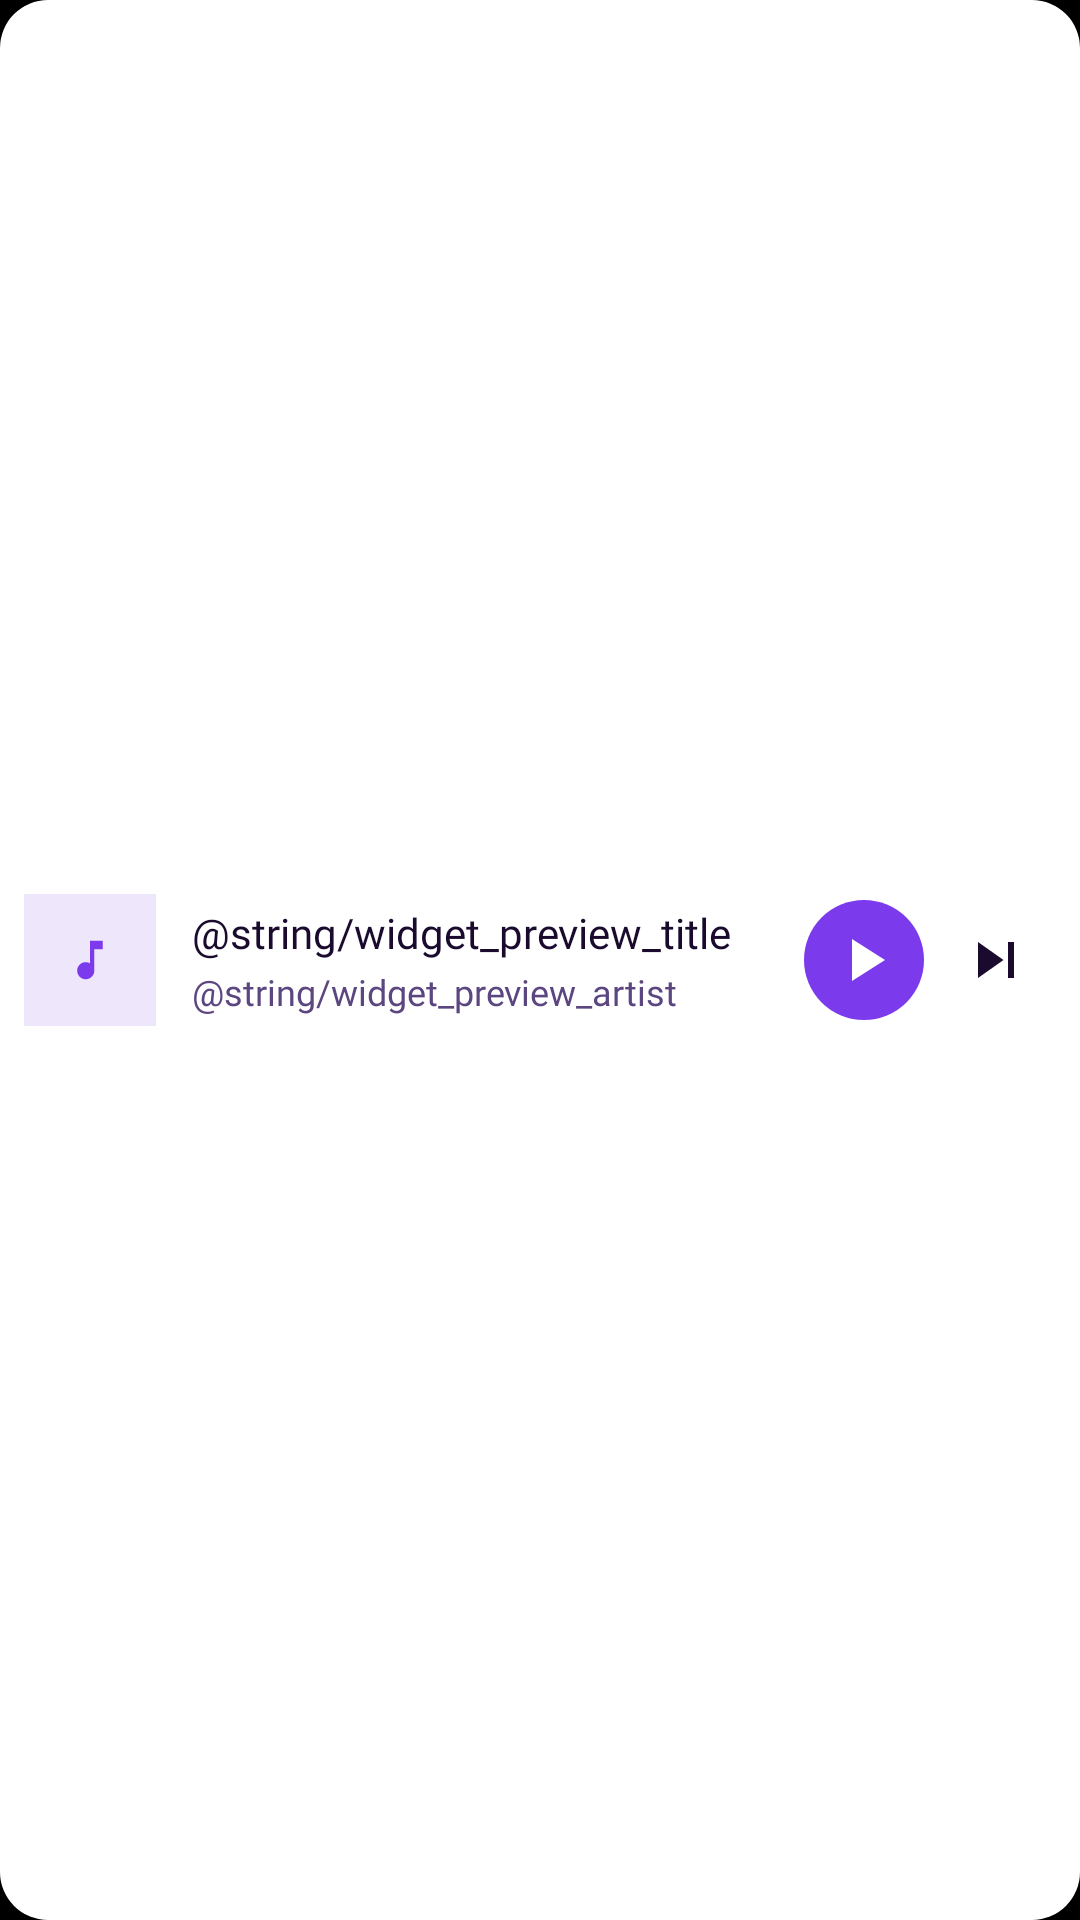

Named icons in this screenshot (1080px x 1920px) and their bounding boxes, (x1, y1, x2, y2):
widget next: (978, 942, 1014, 978)
widget play: (852, 939, 885, 981)
